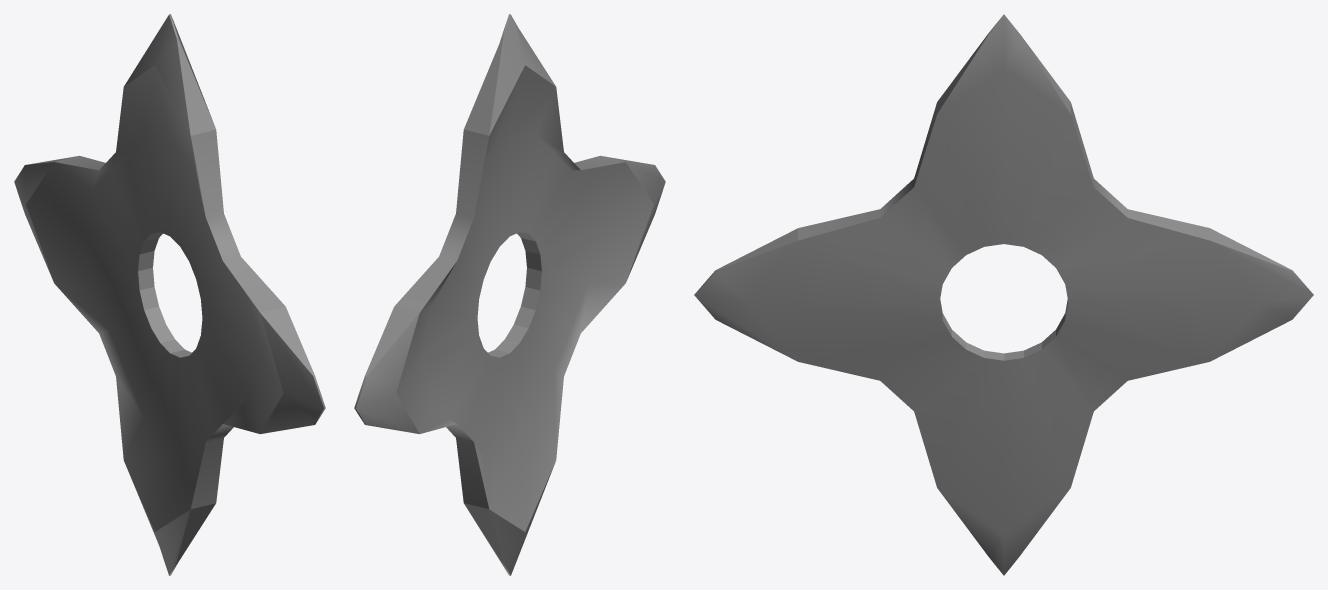
File: shurikenEXP.fbx
3 renders of one model, left to right at view 1: azimuth 30°, elevation 25°; view 2: azimuth 150°, elevation 25°; view 3: azimuth 270°, elevation 25°, orthographic.
Parts seen in each view (by area): view 1: pCylinder1; view 2: pCylinder1; view 3: pCylinder1.
Part boxes in pixels (left/top/right/bottom): pCylinder1: left=14, top=14, right=325, bottom=575; pCylinder1: left=354, top=14, right=665, bottom=575; pCylinder1: left=694, top=14, right=1313, bottom=575.
Bounding box in the file's own units: 0.6376 × 11.24 × 11.24.
